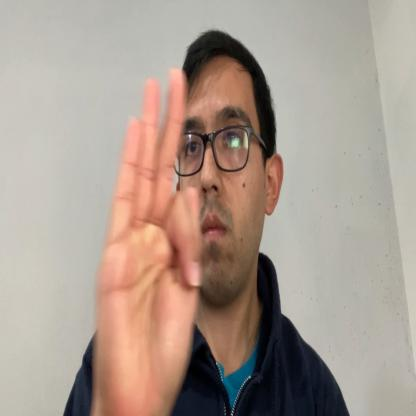F: (94, 66, 202, 404)
